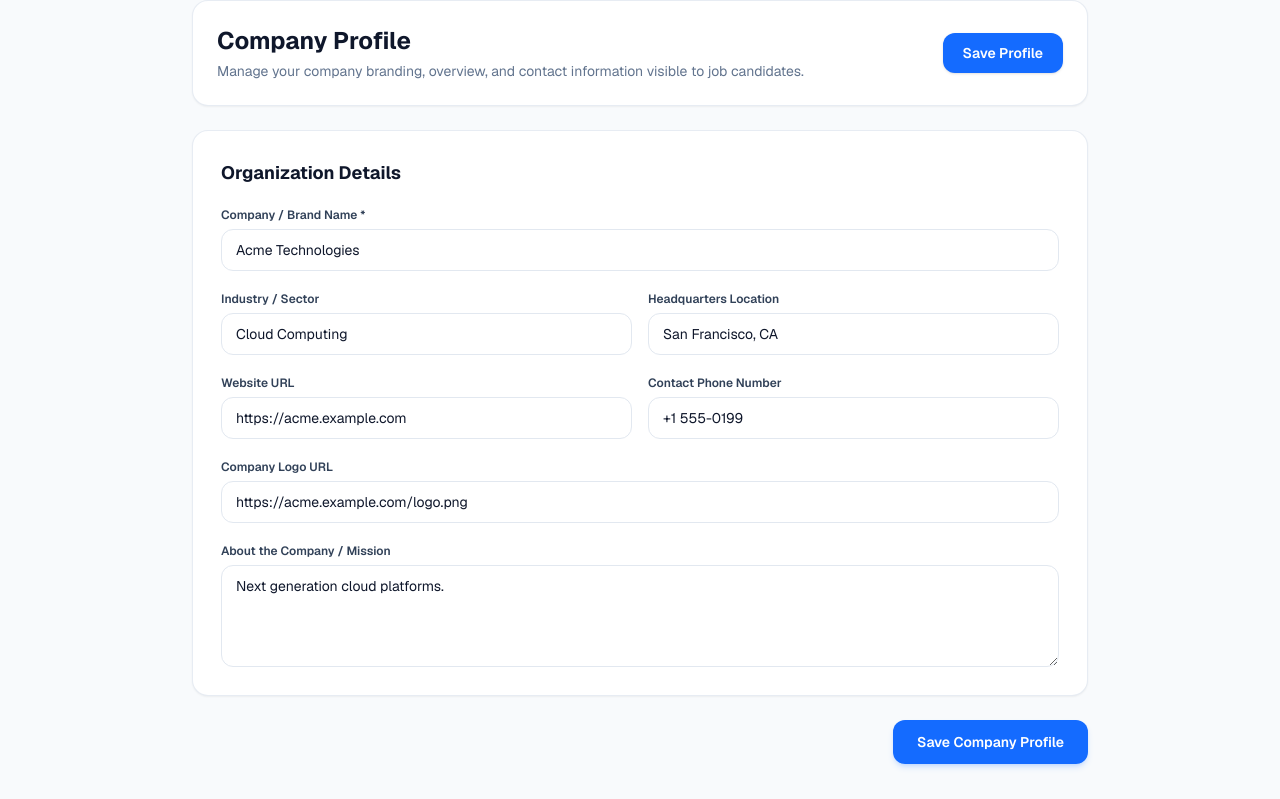
Test: CompanyProfilePage Component › submits updated profile payload to PATCH endpoint
Replace the text in the field labelled "Company / Brand Name *" with "Acme Global Labs" at (640,250), box x1=221 y1=229 x2=1059 y2=271
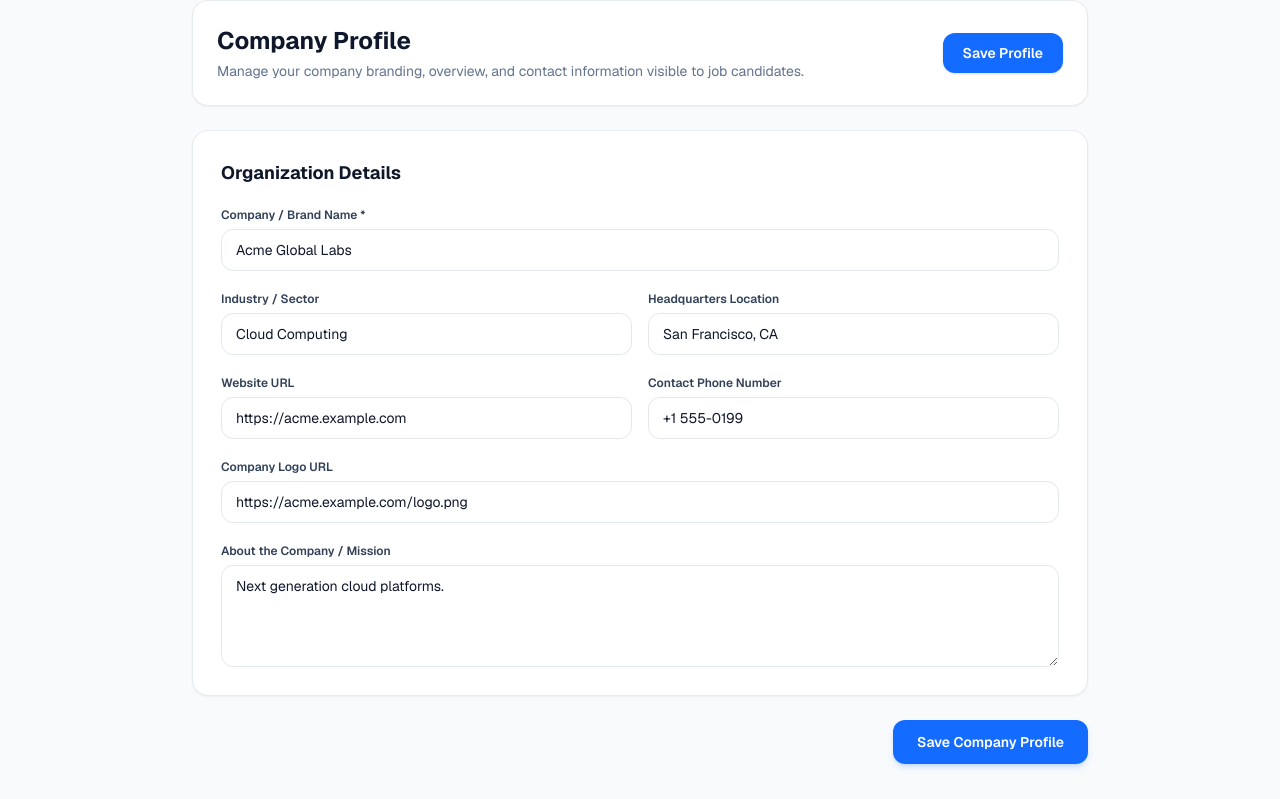
Click the button "Save Profile".
click(1003, 53)  # box x1=942 y1=33 x2=1063 y2=73
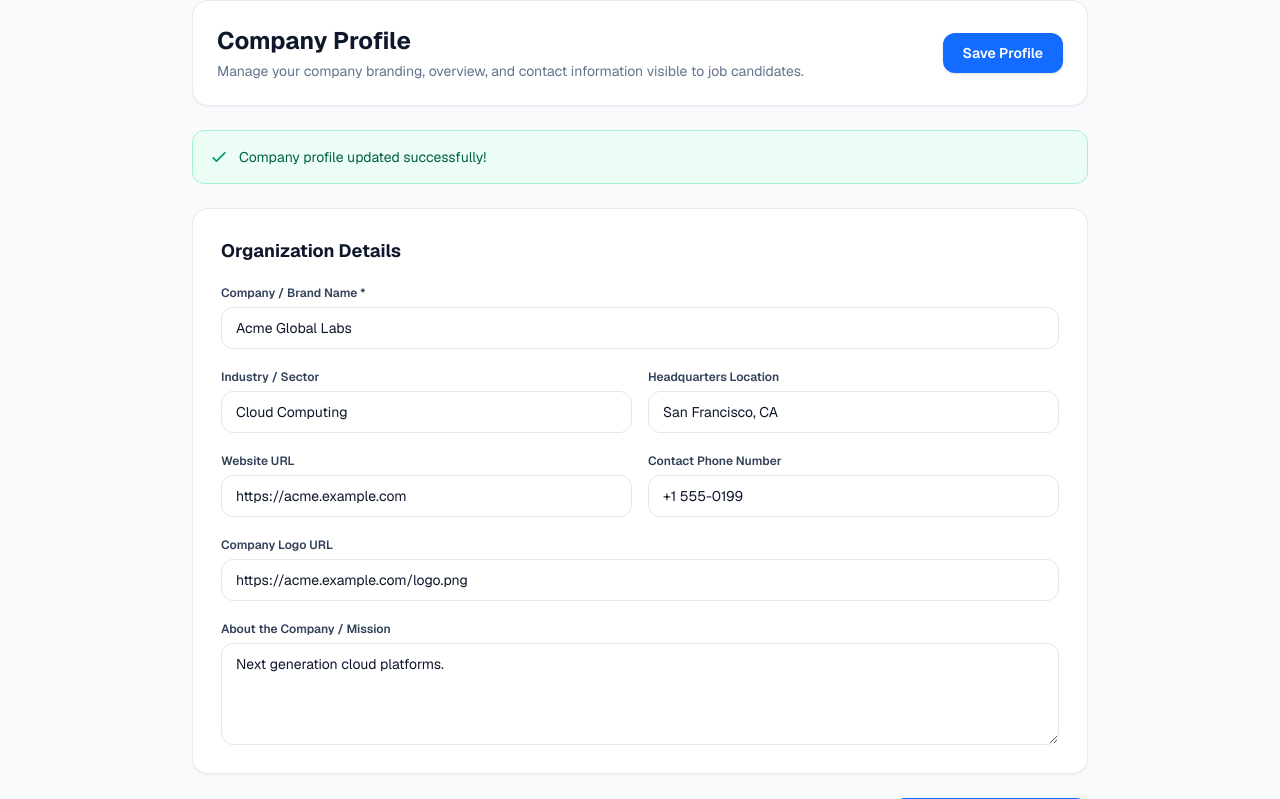
Expected: the text "Company profile updated successfully!" is shown, x1=239 y1=147 x2=486 y2=167
